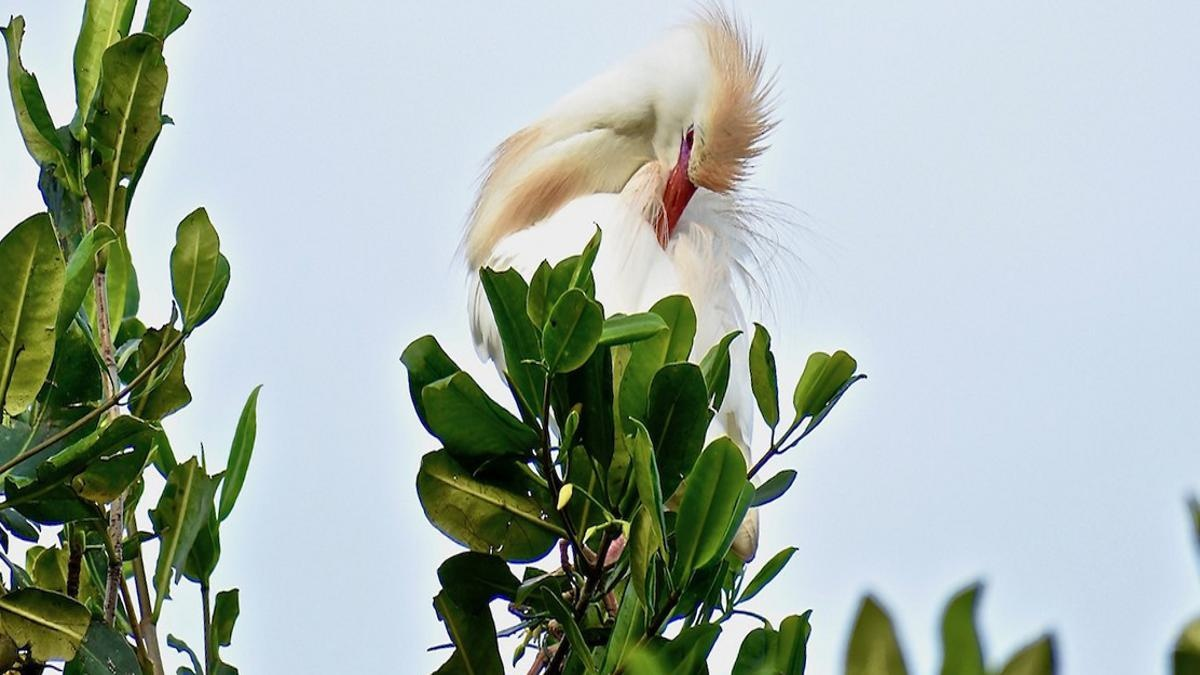egret: (486, 6, 827, 460)
